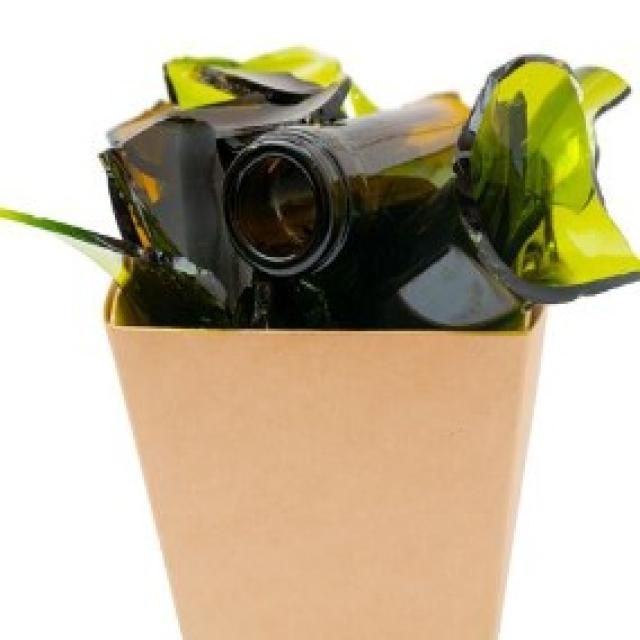electronic: (98, 35, 640, 329)
